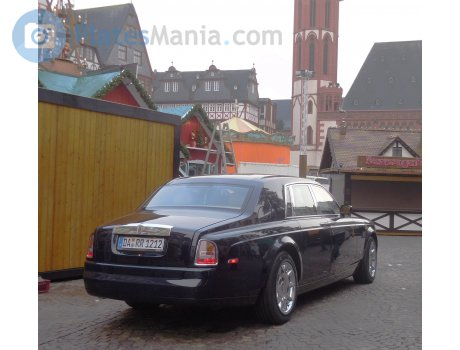License Plates: (118, 237, 159, 244)
